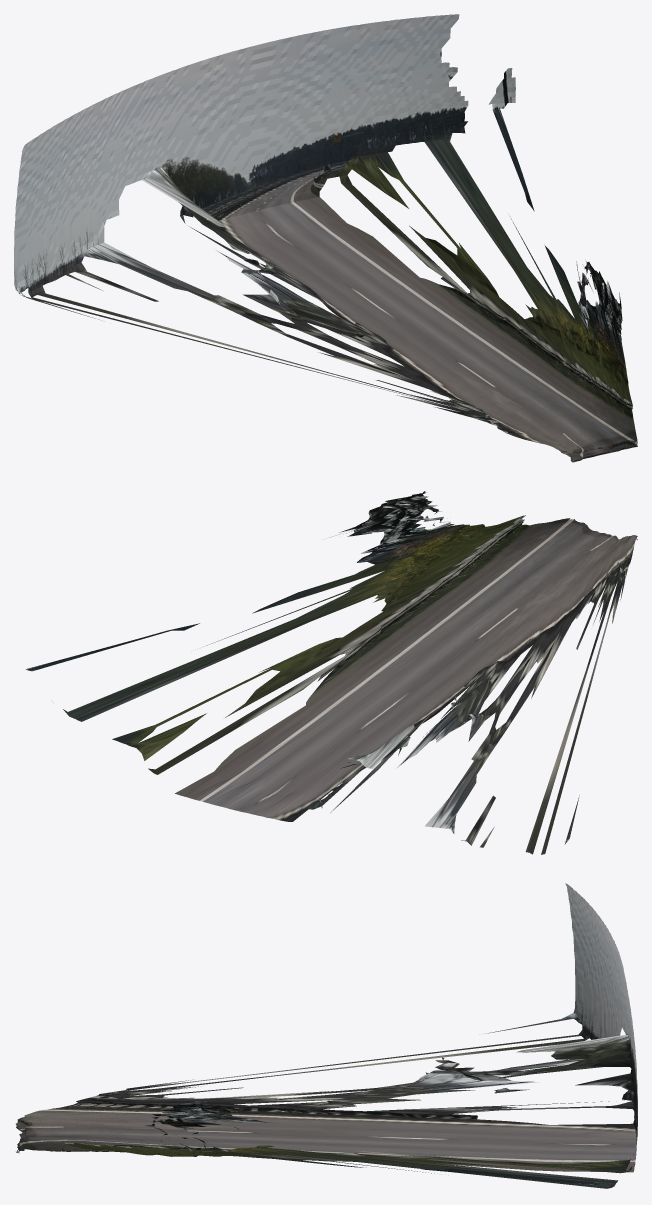
3 renders of one model, top to bottom at view 1: azimuth 30°, elevation 25°; view 2: azimuth 150°, elevation 25°; view 3: azimuth 270°, elevation 25°, orthographic. The views are drawn at different scales.
Visible parts, largest first — view 1: defaultobject; view 2: defaultobject; view 3: defaultobject.
Part boxes in pixels (<box>): defaultobject: <box>14,14,637,462</box>; defaultobject: <box>26,491,637,854</box>; defaultobject: <box>16,883,637,1188</box>.
Bounding box in the file's own units: 37.77 × 12.26 × 44.52.
Materials: 1 (1 with a texture image).
